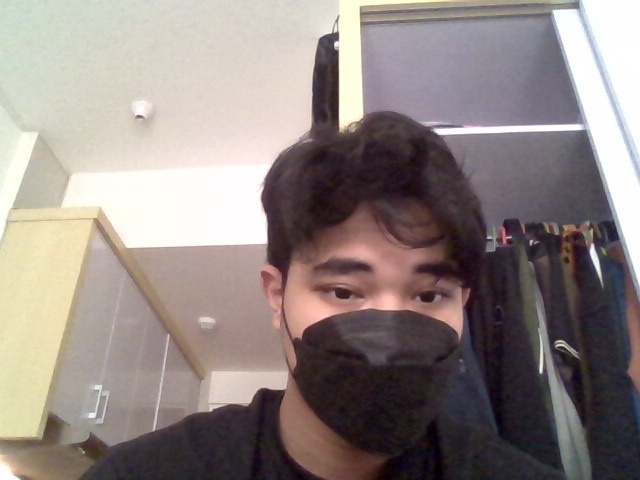Awake: (242, 113, 486, 469)
